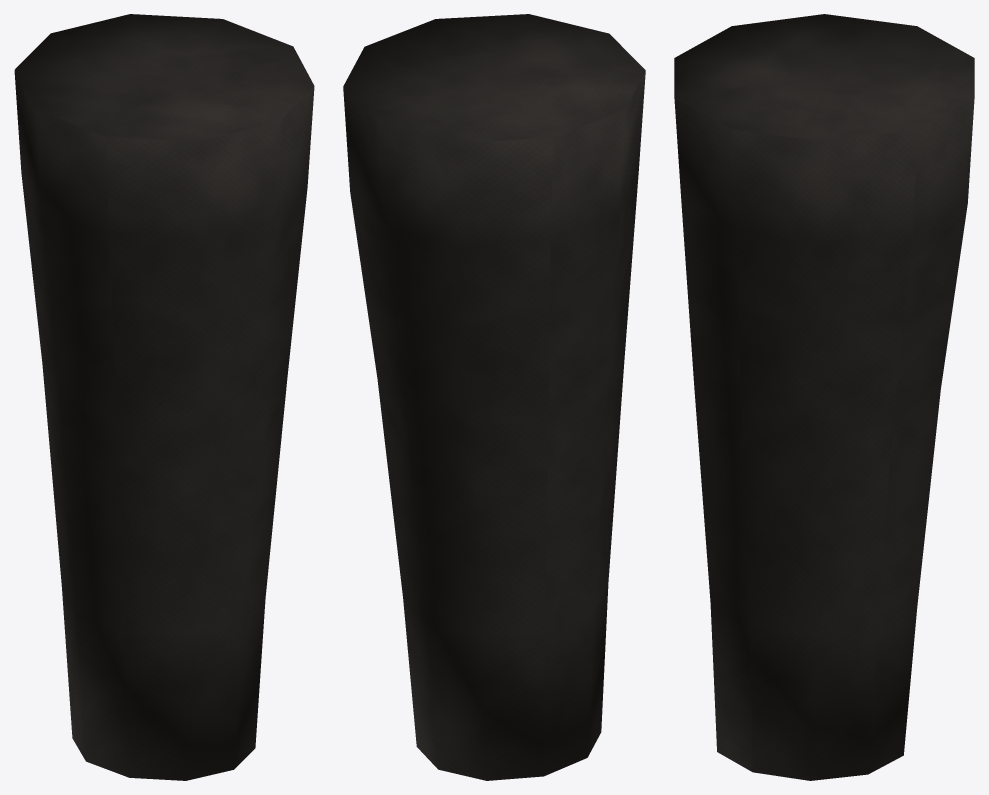
The model's file is musloizq.obj.
The picture shows the model from 3 angles, left to right: view 1: azimuth 30°, elevation 25°; view 2: azimuth 150°, elevation 25°; view 3: azimuth 270°, elevation 25°; orthographic projection.
Parts seen in each view (by area): view 1: MusloIzq; view 2: MusloIzq; view 3: MusloIzq.
Part boxes in pixels (x1,y1,x2,y2): MusloIzq: (14, 14, 314, 780); MusloIzq: (343, 14, 645, 780); MusloIzq: (674, 14, 974, 780).
Size of the model in its own units: 0.172 by 0.4213 by 0.1712.
Materials: 1 (1 with a texture image).
